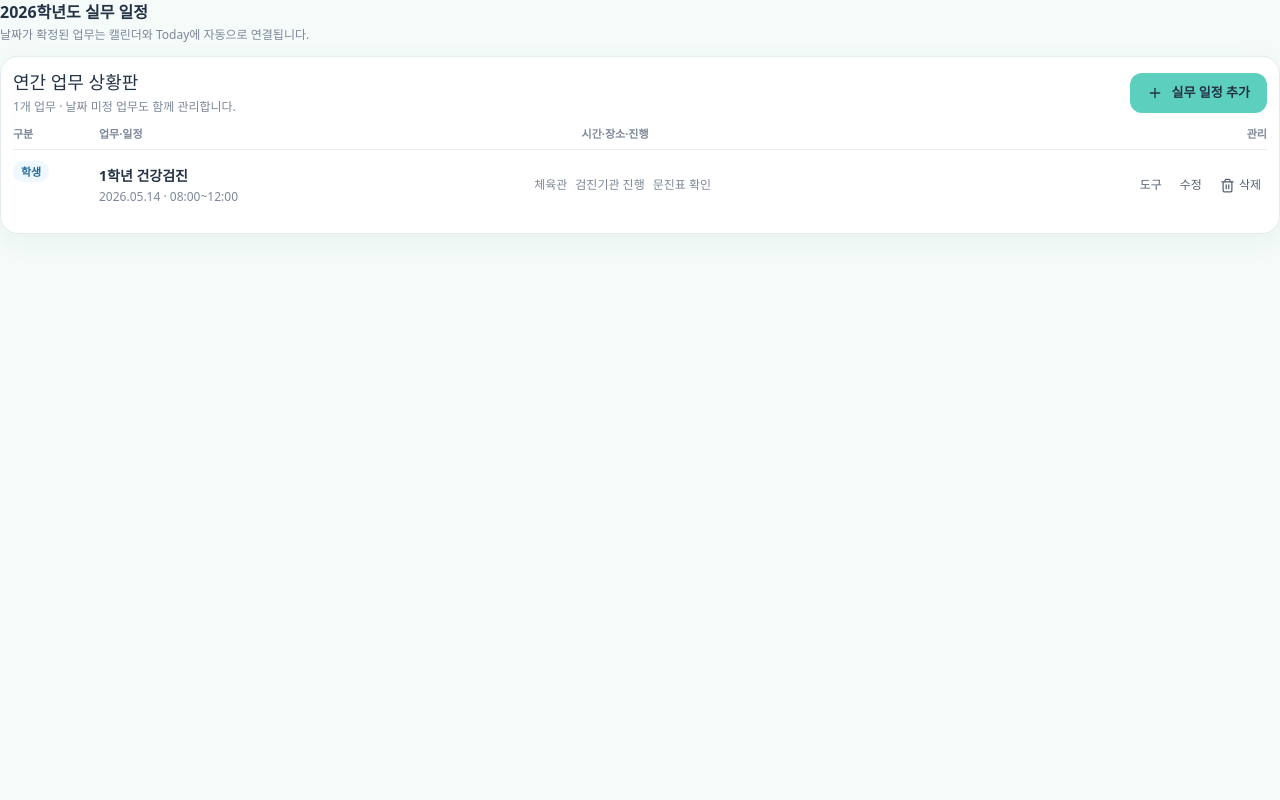
Scenario: PracticalScheduleWorkspace edit modal › opens a centered dialog, preserves linked fields as read-only, and closes on cancel with focus restored
Click the button with aria-label "1학년 건강검진 수정": (1191, 185) 1174,170 -> 1208,200
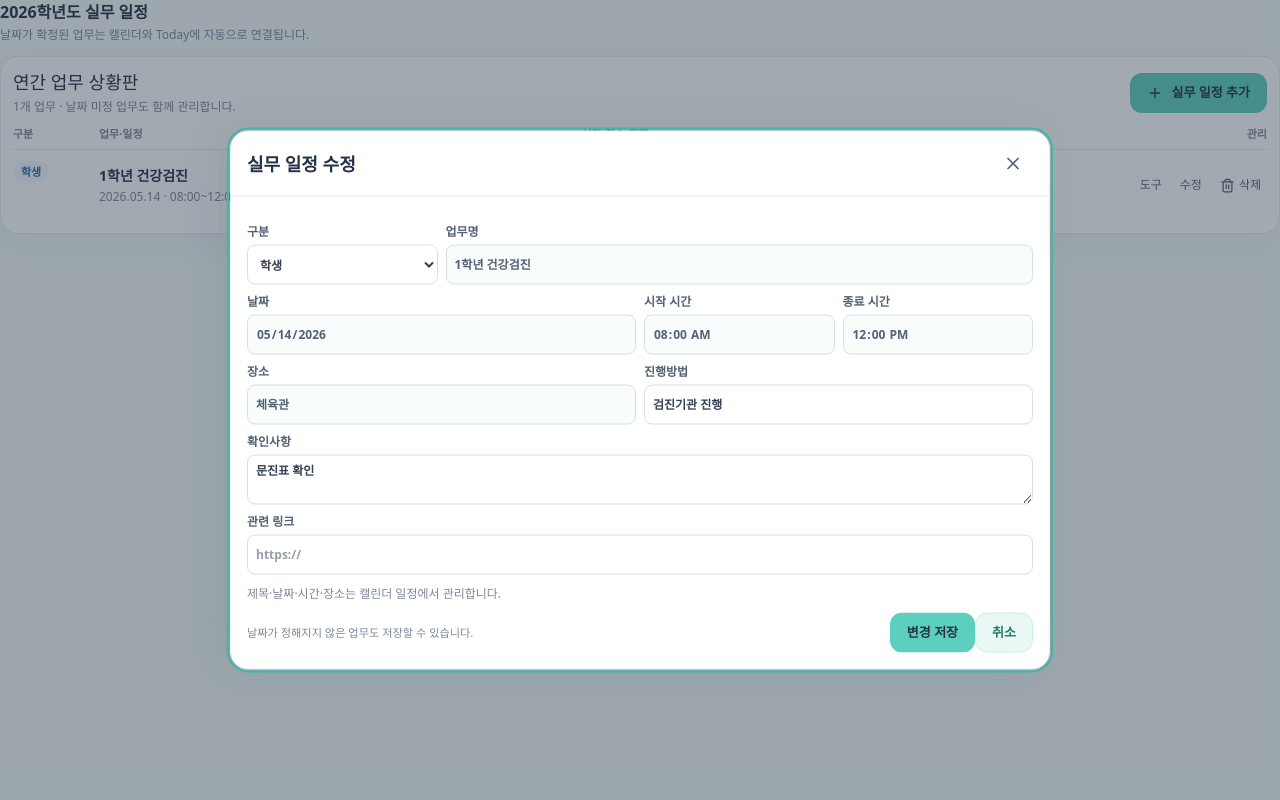
expect the dialog "실무 일정 수정" is shown: met, box 230,130 -> 1050,670
expect the field labelled "업무명" is disabled: met, box 446,244 -> 1033,284
expect the date field labelled "날짜" is disabled: met, box 247,314 -> 636,354
Click the button "취소": (1004, 632) 975,612 -> 1033,652
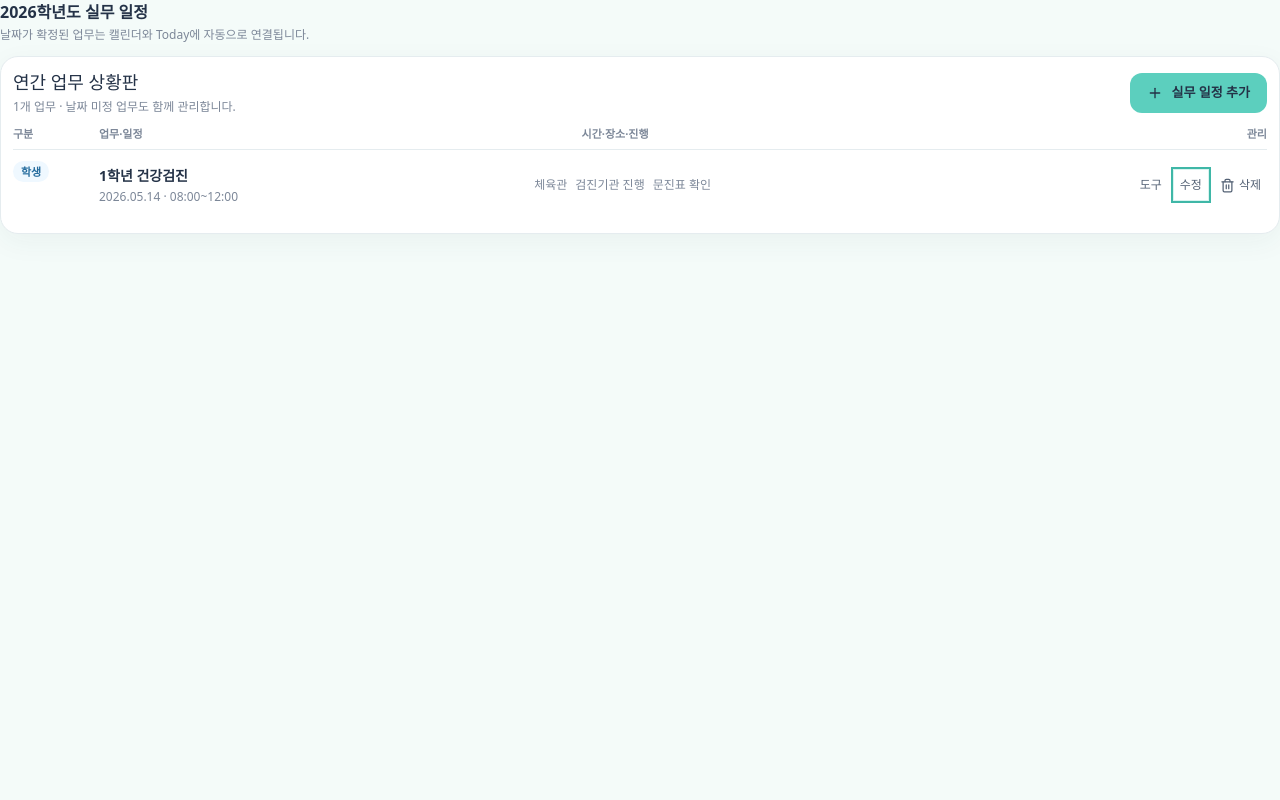
expect the heading "실무 일정 수정" is gone: met
